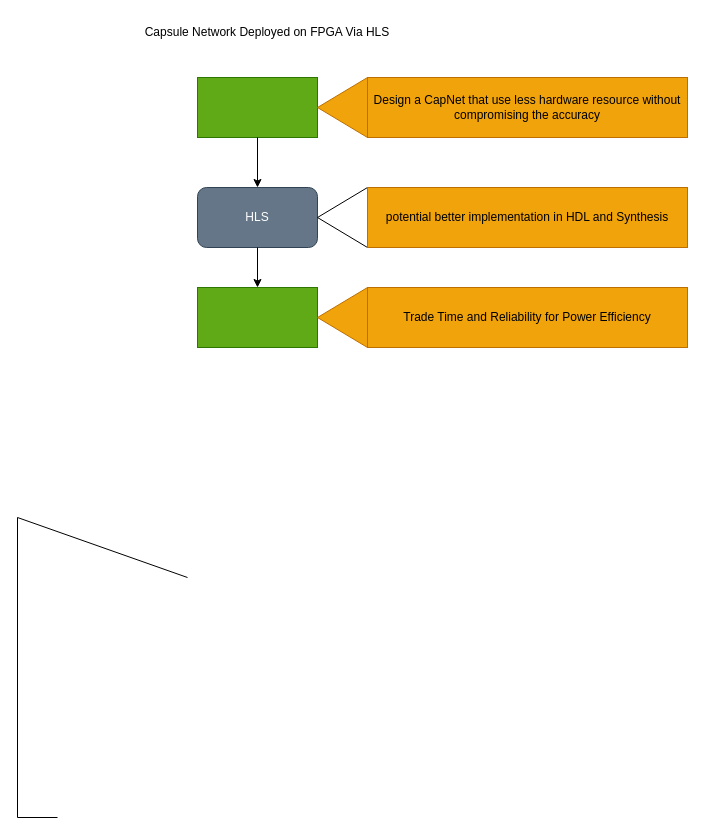
The diagram is 705 pixels wide and 836 high, and some of its shapes have lost their labels. The shapes that lost their labels are listed below. From the top down, each one's centre as x and y in pixels, then its label:
the point at 257,107: Capsule Network
the point at 257,317: FPGA device
